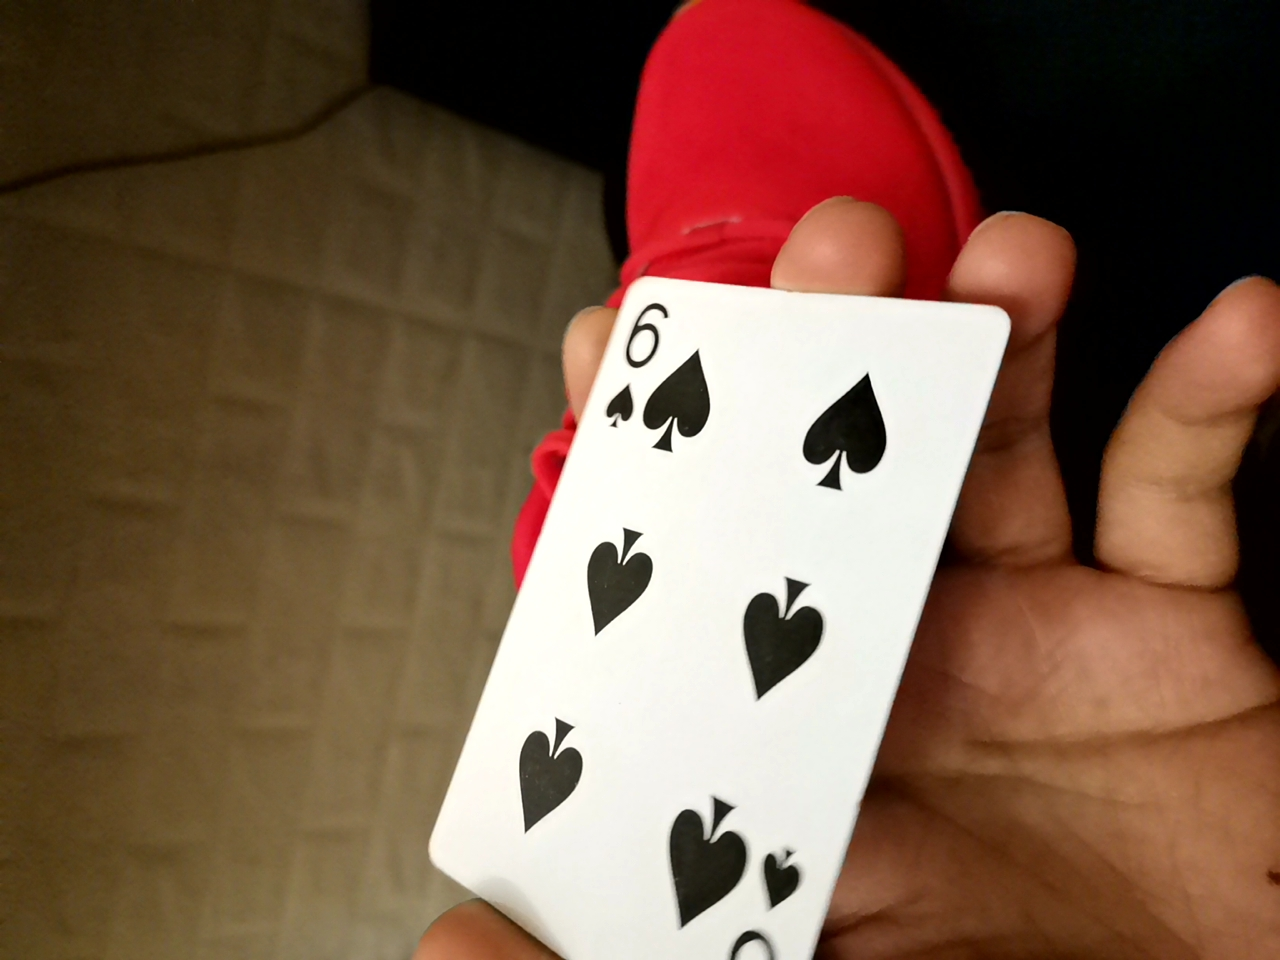ht 6: (428, 231, 1034, 954)
